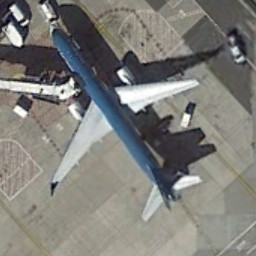Airplane: (33, 20, 213, 230)
